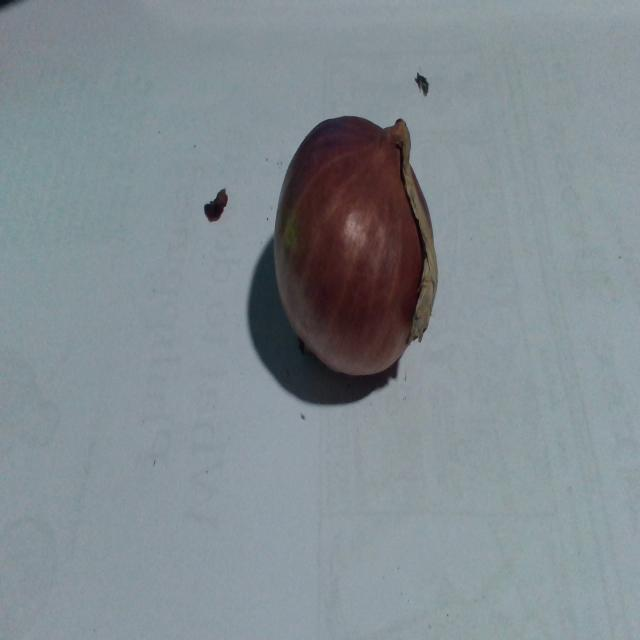onion: (268, 107, 448, 385)
